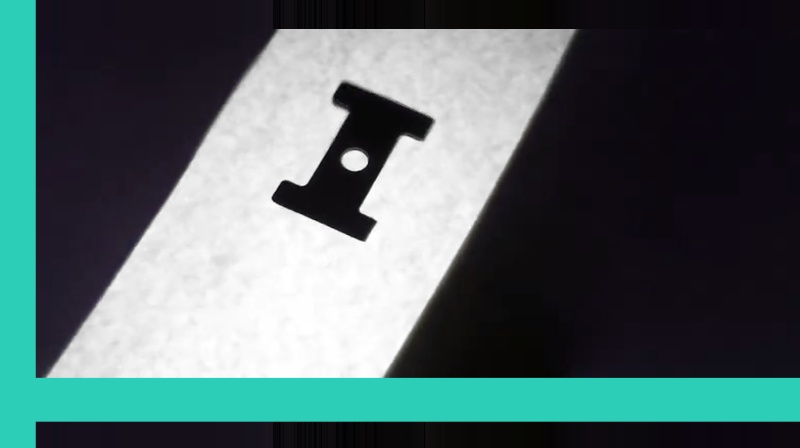O002: (267, 76, 440, 240)
